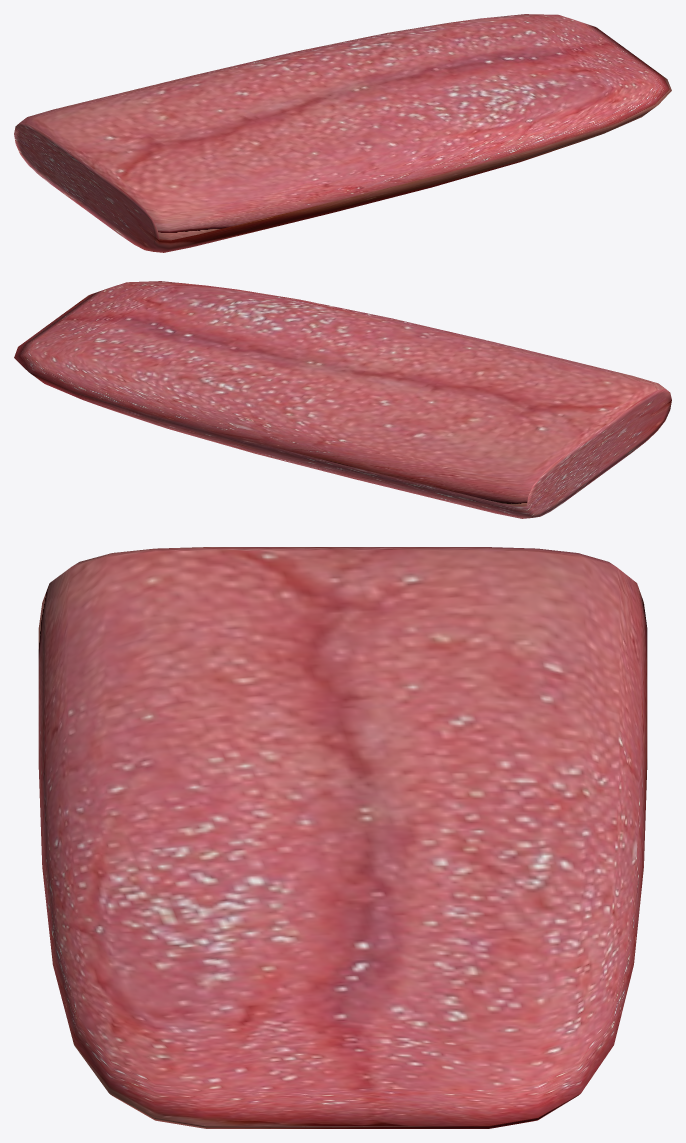
File: Tongue_Processed.glb
The picture shows the model from 3 angles, top to bottom: view 1: azimuth 30°, elevation 25°; view 2: azimuth 150°, elevation 25°; view 3: azimuth 270°, elevation 25°; orthographic projection. The views are drawn at different scales.
Parts seen in each view (by area): view 1: Tongue; view 2: Tongue; view 3: Tongue.
Boxes of the visible parts, x1,y1,x2,y2 form: Tongue: (14, 14, 671, 252); Tongue: (14, 281, 671, 518); Tongue: (38, 547, 647, 1128).
Size of the model in its own units: 4.04 by 0.3803 by 1.95.
Materials: 1 (1 with a texture image).
